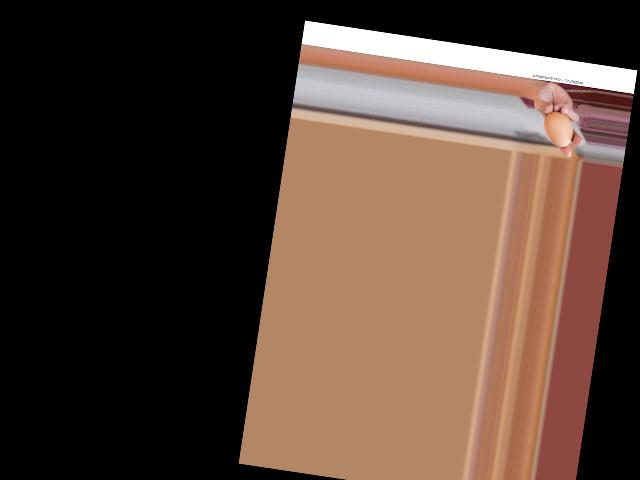egg: (541, 110, 576, 148)
